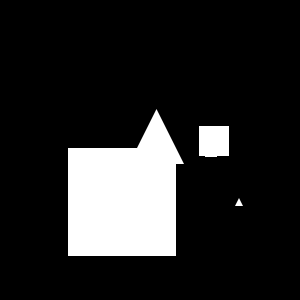circle: (68, 148, 176, 256), (199, 126, 229, 156), (205, 145, 217, 157)
triangle: (129, 109, 184, 164), (235, 198, 243, 206)
